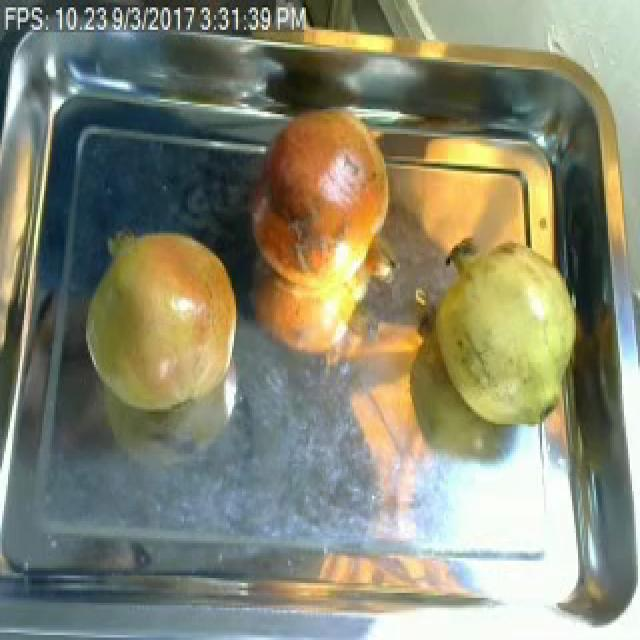fruit: (410, 226, 590, 444), (76, 213, 252, 429), (242, 96, 400, 302)
